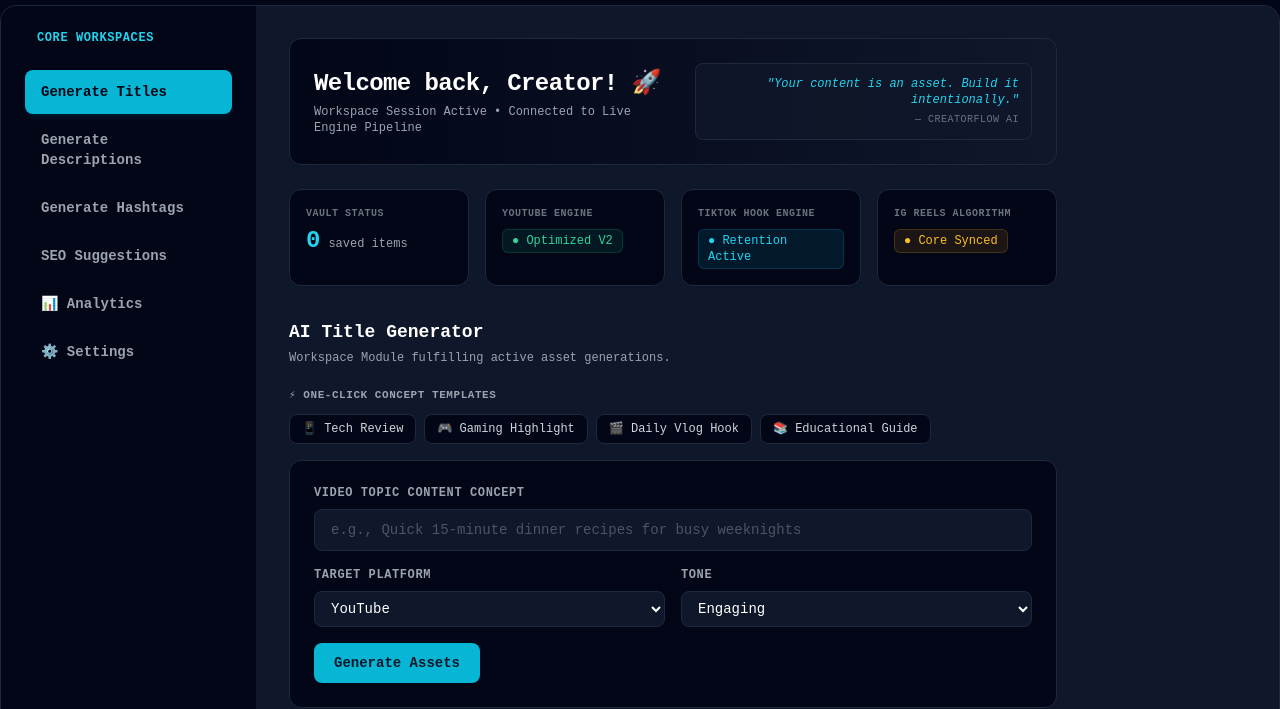
Scenario: AIToolStudio — AI generation (US-03 to US-06) › Hashtag Generator renders every returned hashtag
This screenshot has width=1280, height=709.
Click the button "Generate Hashtags" at (128, 208), box [25,186,232,230]
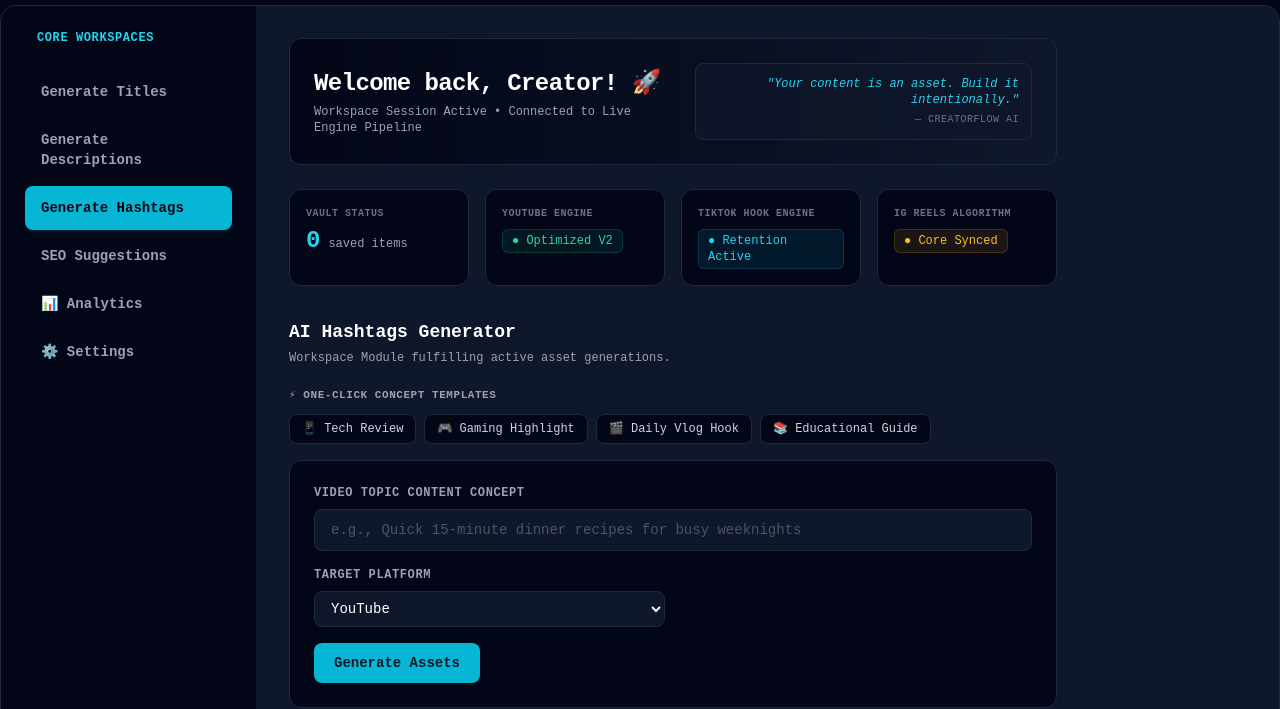
Type "travel vlog Tokyo" into the field with placeholder "e.g., Quick 15-minute dinner recipes for busy weeknights" at (673, 530), box [314,509,1032,551]
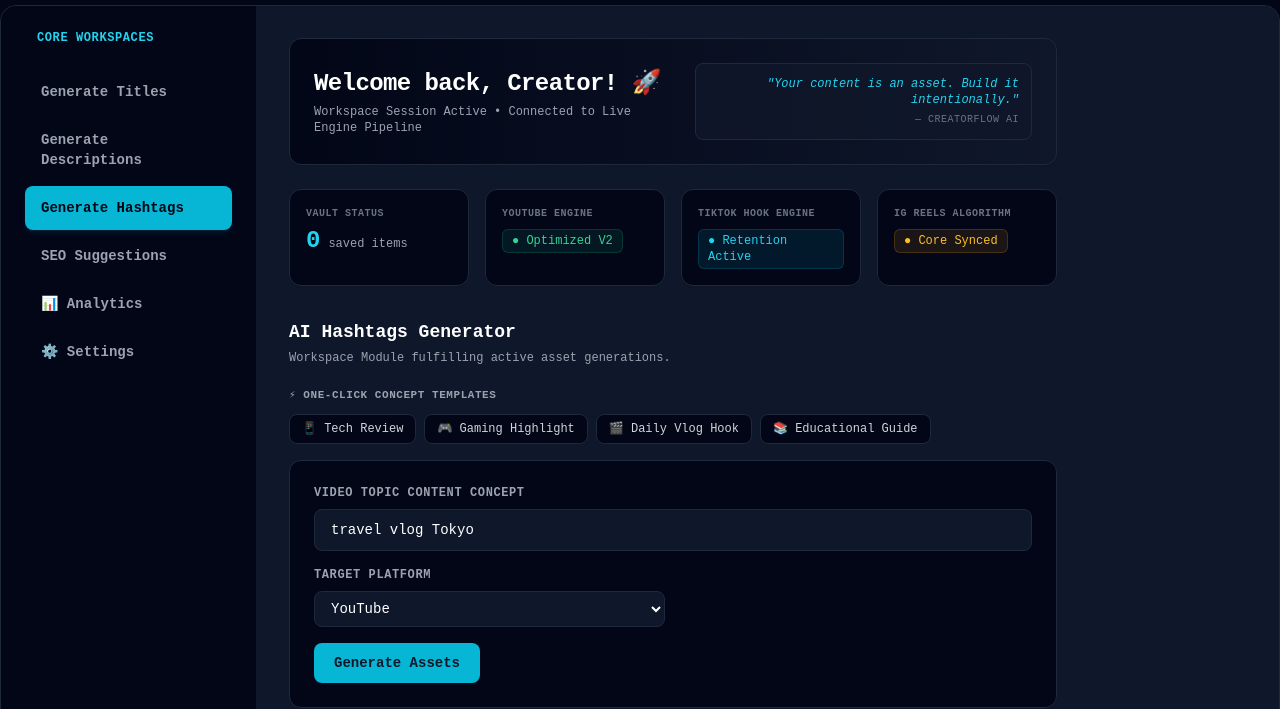
Click the button "Generate Assets" at (397, 663), box [314,643,480,683]
(page scrolled)
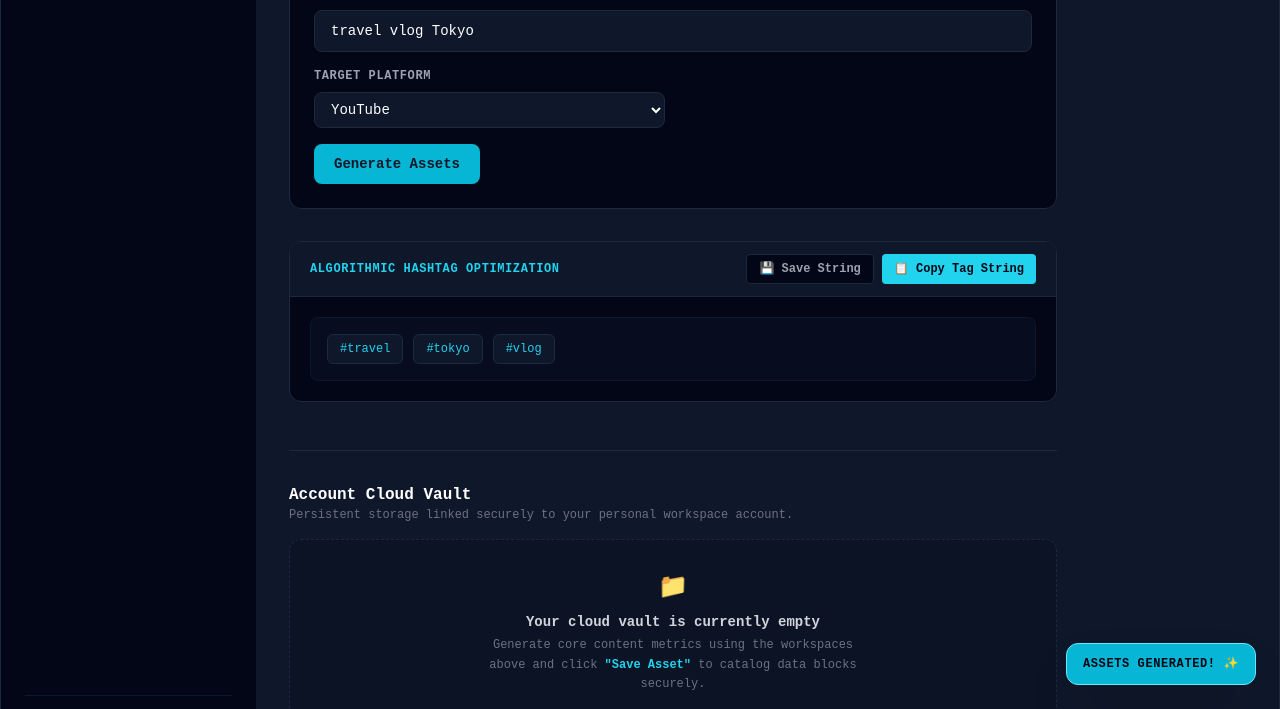
Result: the text "#tokyo" is shown at [413,334,483,364]
Result: the text "#travel" is shown at [327,334,403,364]
Result: the text "#vlog" is shown at [493,334,555,364]
